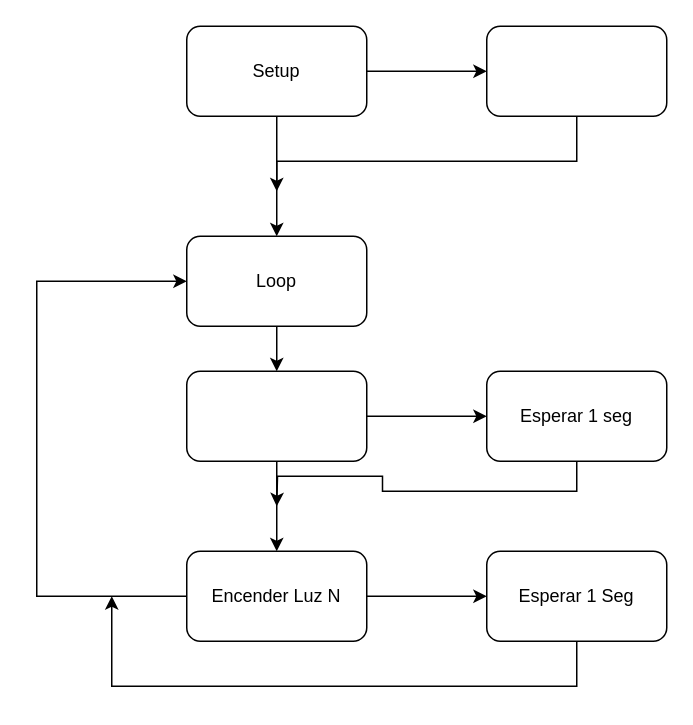
Image size: 693x725. Some labels were removed from this diagram. Here are the shapes that lost their labels. From the top down, the centre of each, then its label:
At [576,70]: "Definir 5 Pines de Salida".
At [276,415]: "Encender Luz 1".
